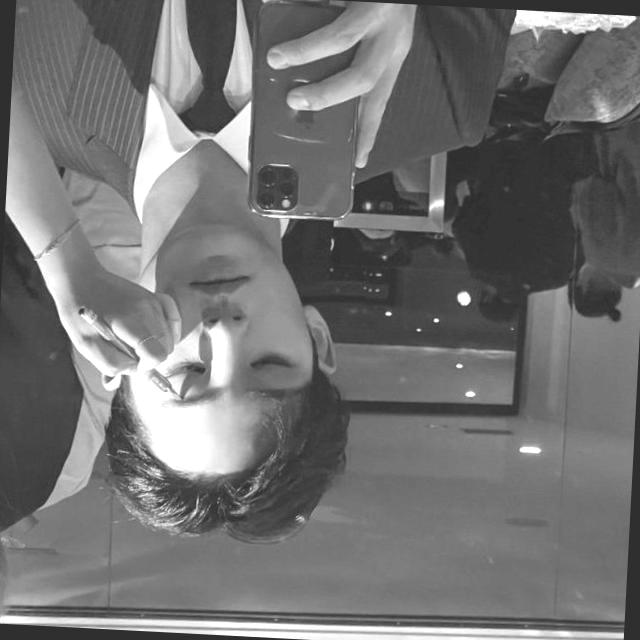lens: (258, 164, 296, 208)
phone: (248, 0, 357, 219)
